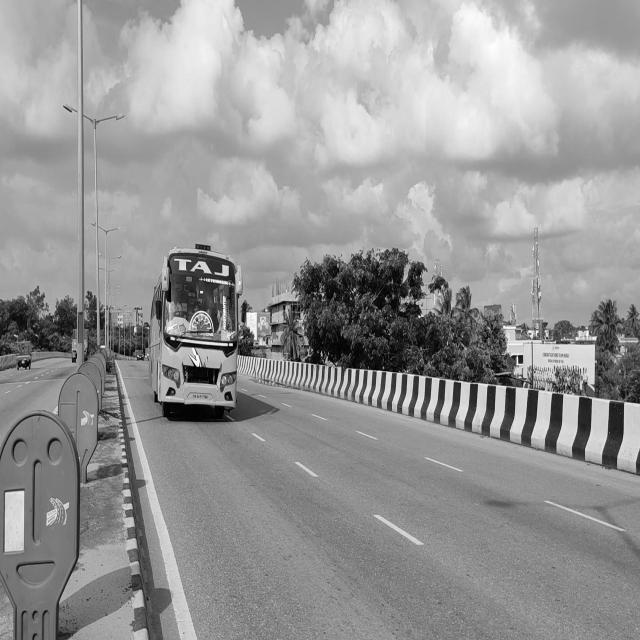truck: (152, 248, 244, 417)
